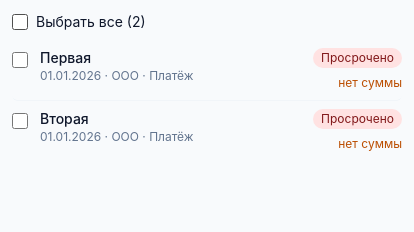
it: список задач › меняет статус выбранных после подтверждения
Expected: the text "Просрочено" is shown 2 times, [313,48,402,68]; [313,109,402,129]
Expected: the button "Оплачено" is not shown
Step 1. Click the checkbox named "Выбрать: Вторая, ООО" → x=20, y=121, box [12,113,28,129]
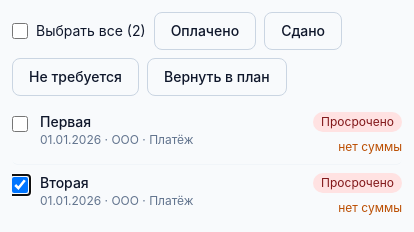
Step 2. Click the button "Оплачено" → x=205, y=31, box [154,12,256,50]
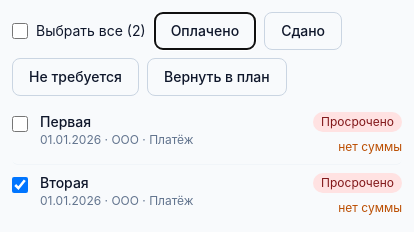
Step 3. Click the button "Оплачено" → x=205, y=31, box [154,12,256,50]
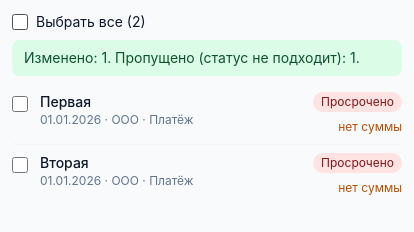
Result: the text "Изменено: 1. Пропущено (статус не подходит): 1." is shown at [12,40,402,76]
